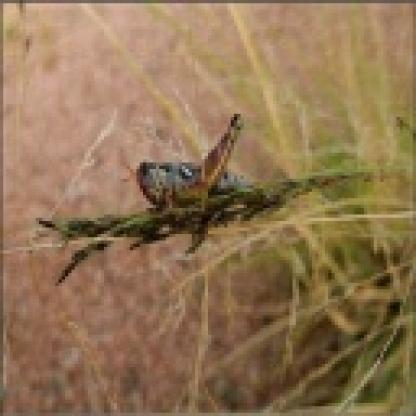grasshopper: (119, 111, 279, 233)
